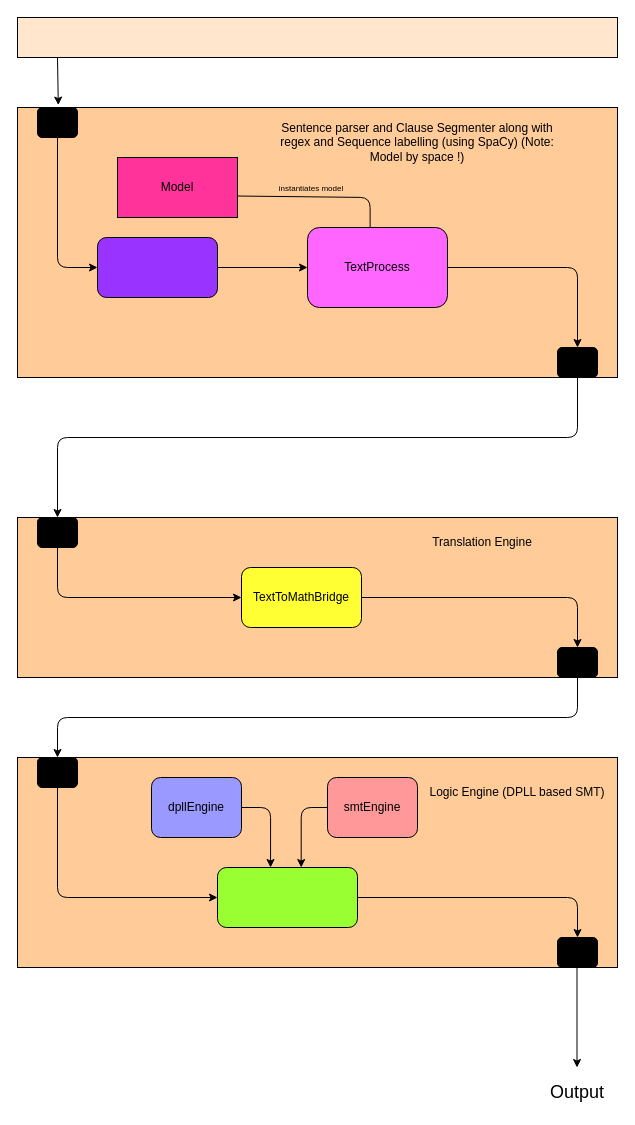
This 635x1125 diagram has some shape labels left out. Each missing label, with the centre of its shape:
"LogicEngine" belongs at point (287, 897).
"Raw Text pasted by the user." belongs at point (317, 37).
"TextStream" belongs at point (157, 267).
